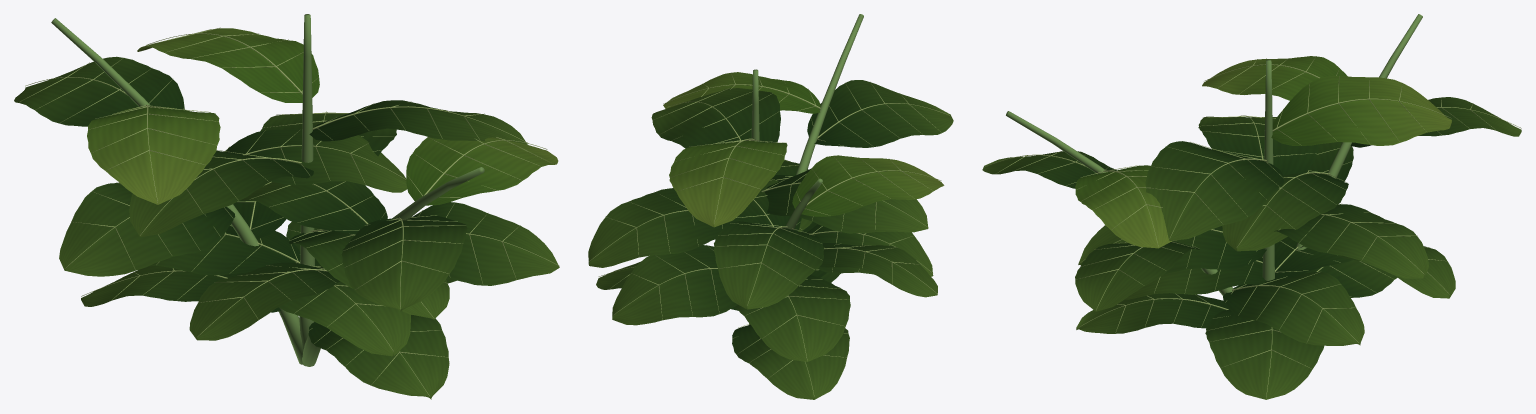
The model's file is daisy-06.glb.
3 views of the same model, side by side, from view 1: azimuth 30°, elevation 25°; view 2: azimuth 150°, elevation 25°; view 3: azimuth 270°, elevation 25° (orthographic). The views are drawn at different scales.
Visible parts, largest first — view 1: daisy_stage_06_leaf_veins.010, daisy_stage_06_young_leaf.010, daisy_stage_06_raised_midveins.010, daisy_stage_06_stem_fibres.010; view 2: daisy_stage_06_leaf_veins.010, daisy_stage_06_young_leaf.010, daisy_stage_06_raised_midveins.010, daisy_stage_06_stem_fibres.010; view 3: daisy_stage_06_leaf_veins.010, daisy_stage_06_young_leaf.010, daisy_stage_06_raised_midveins.010, daisy_stage_06_stem_fibres.010.
Boxes of the visible parts, x1,y1,x2,y2 form: daisy_stage_06_leaf_veins.010: [14, 56, 559, 399]; daisy_stage_06_young_leaf.010: [87, 28, 558, 205]; daisy_stage_06_raised_midveins.010: [19, 27, 559, 396]; daisy_stage_06_stem_fibres.010: [51, 14, 484, 366]; daisy_stage_06_leaf_veins.010: [588, 80, 953, 399]; daisy_stage_06_young_leaf.010: [663, 72, 944, 227]; daisy_stage_06_raised_midveins.010: [589, 73, 950, 396]; daisy_stage_06_stem_fibres.010: [749, 14, 863, 324]; daisy_stage_06_leaf_veins.010: [982, 97, 1521, 399]; daisy_stage_06_young_leaf.010: [1075, 56, 1451, 248]; daisy_stage_06_raised_midveins.010: [984, 56, 1521, 398]; daisy_stage_06_stem_fibres.010: [1006, 14, 1422, 295].
Bounding box in the file's own units: 0.2254 × 0.1773 × 0.2878.
4 materials, 2 textured.
